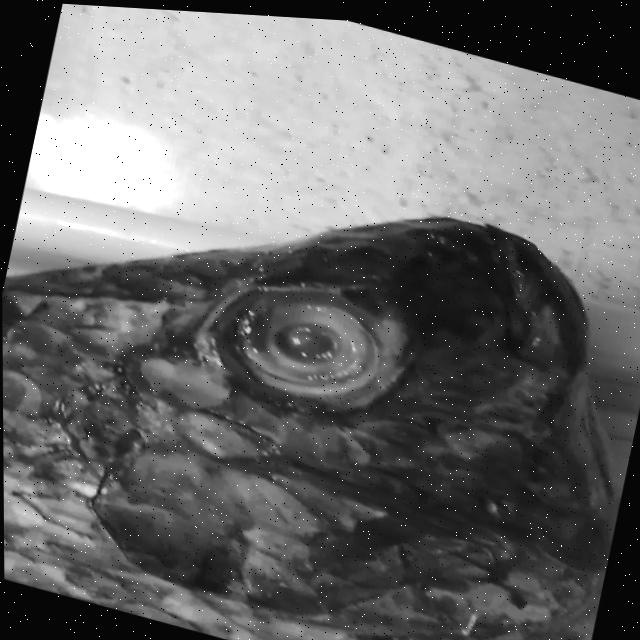Non-Fresh: (201, 249, 415, 437)
